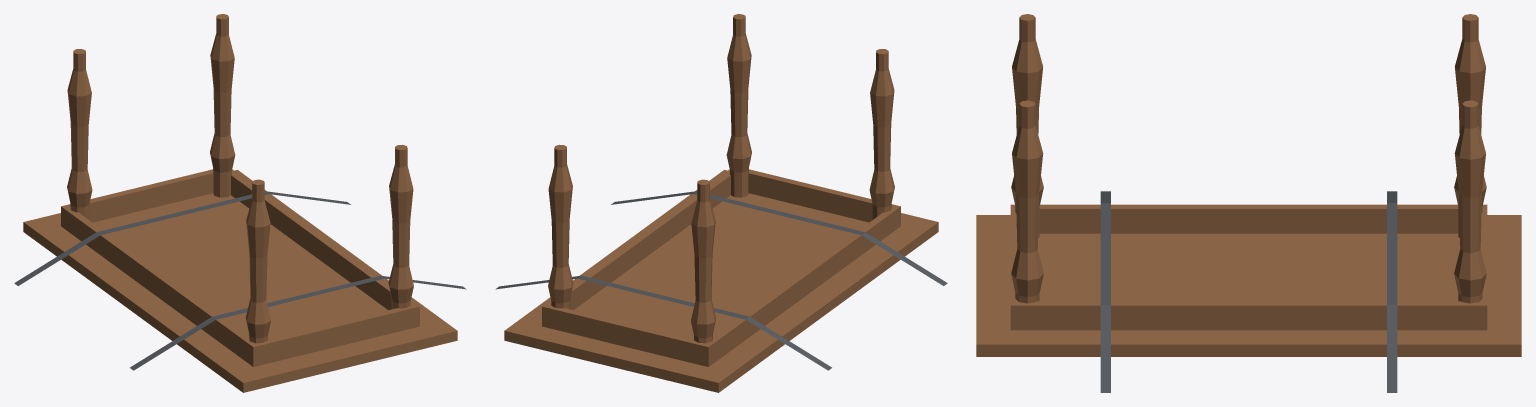
Rendered from dining-table.glb.
3 views of the same model, side by side, from view 1: azimuth 30°, elevation 25°; view 2: azimuth 150°, elevation 25°; view 3: azimuth 270°, elevation 25° (orthographic). The views are drawn at different scales.
Parts seen in each view (by area): view 1: DiningTable; view 2: DiningTable; view 3: DiningTable.
Part boxes in pixels (box(x1,y1,x2,y2)): DiningTable: box(14, 14, 466, 392); DiningTable: box(495, 14, 947, 392); DiningTable: box(976, 14, 1521, 392).
Bounding box in the file's own units: 1.4 × 0.75 × 1.6.
